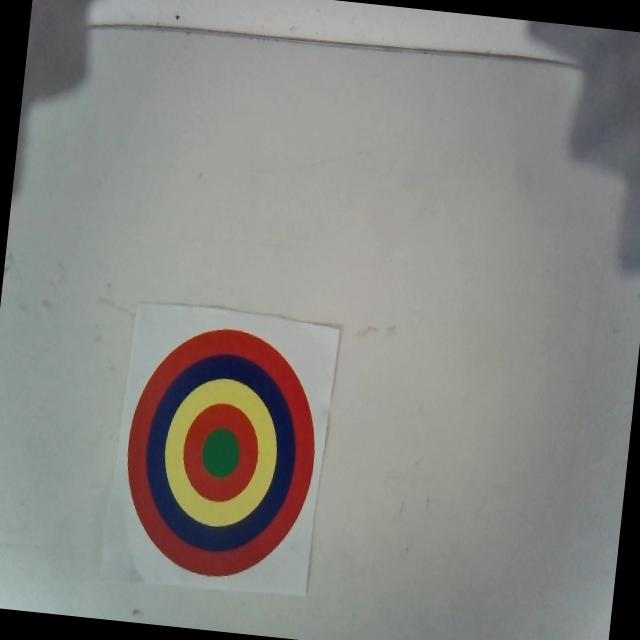cogn: (115, 318, 328, 585)
